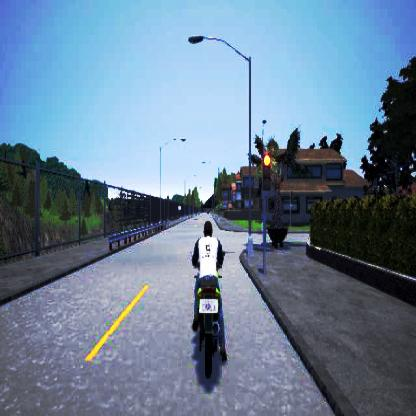motobike: (189, 218, 228, 381)
